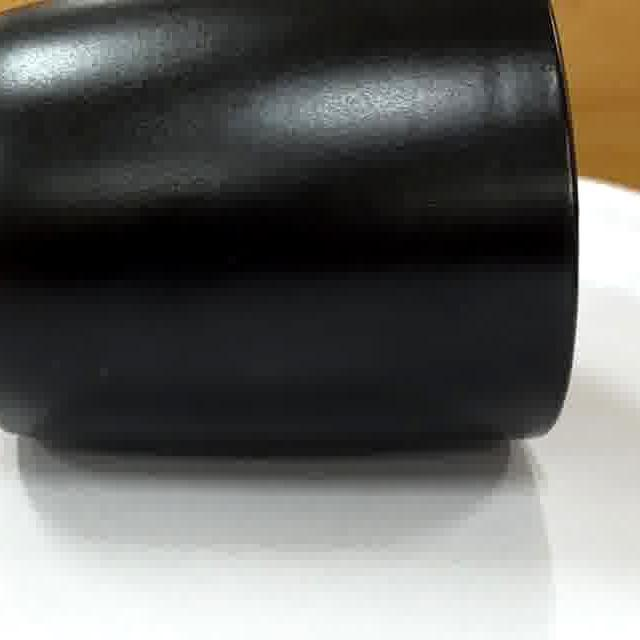cup: (0, 0, 578, 463)
